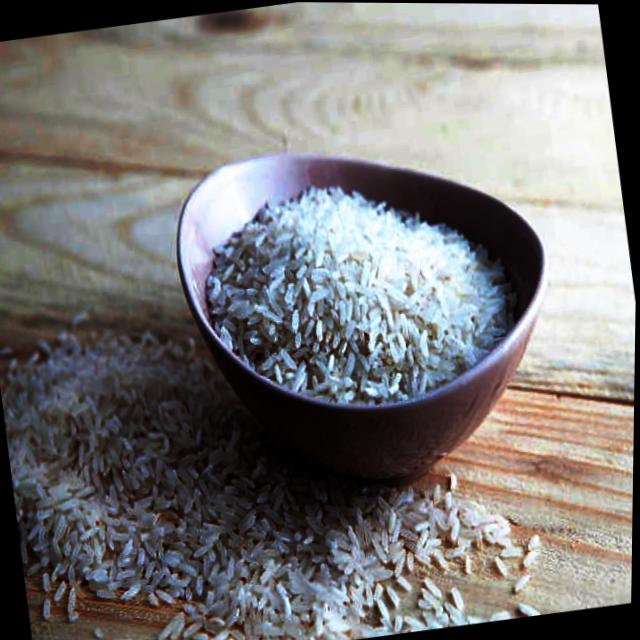rice: (191, 160, 534, 426)
